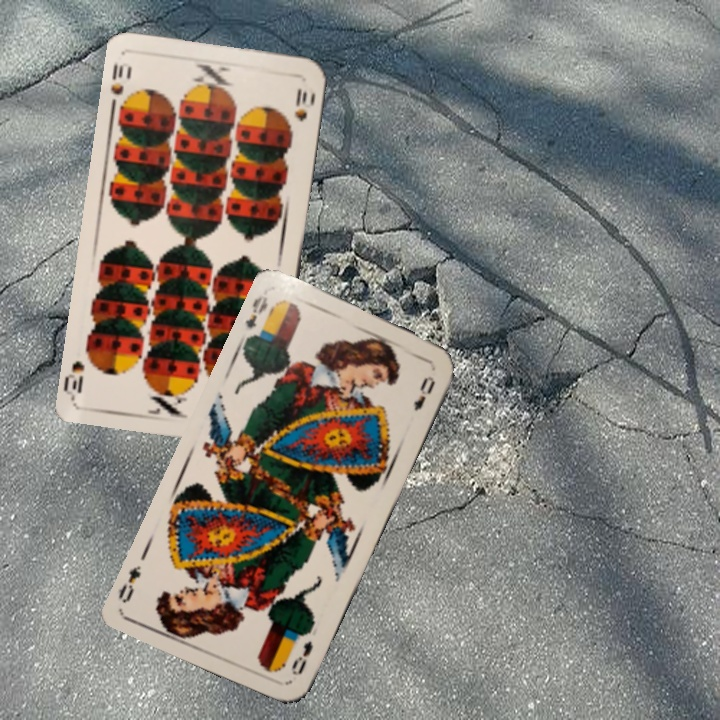EO: (287, 636, 316, 678), (241, 291, 271, 331)
S10: (107, 60, 126, 98)
